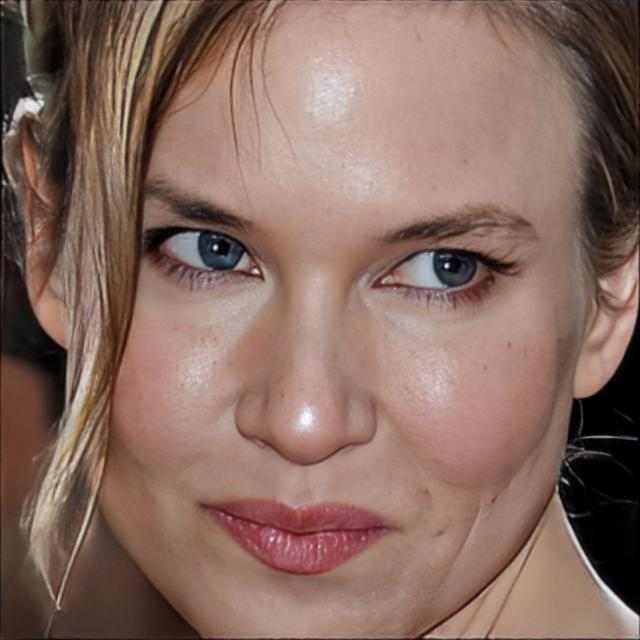content: (90, 0, 587, 640)
